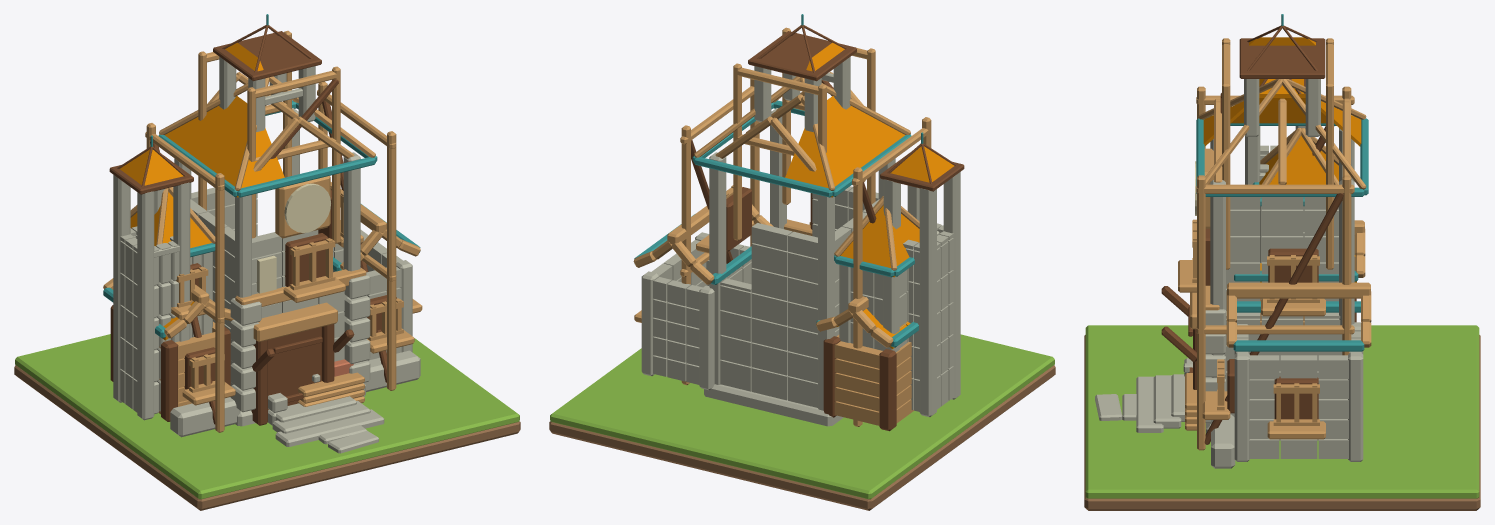
File: town_hall_l08_construction_LOD0.glb
3 views of the same model, side by side, from view 1: azimuth 30°, elevation 25°; view 2: azimuth 150°, elevation 25°; view 3: azimuth 270°, elevation 25° (orthographic). The views are drawn at different scales.
Visible parts, largest first — view 1: town_hall_l08_construction_grass_tile, town_hall_l08_construction_earth_tile, town_hall_l08_construction_corner_reinforcement.020, town_hall_l08_construction_door_recess, town_hall_l08_construction_central_spire_cornice, town_hall_l08_construction_scaffold_post, town_hall_l08_construction_scaffold_post.002, town_hall_l08_construction_hip_roof_shingle.011, town_hall_l08_construction_corner_reinforcement.021, town_hall_l08_construction_door_lintel, town_hall_l08_construction_corner_reinforcement.002, town_hall_l08_construction_clock_face (+39 smaller); view 2: town_hall_l08_construction_grass_tile, town_hall_l08_construction_earth_tile, town_hall_l08_construction_corner_reinforcement.021, town_hall_l08_construction_corner_reinforcement.003, town_hall_l08_construction_corner_reinforcement.001, town_hall_l08_construction_central_spire_cornice, town_hall_l08_construction_hip_roof_shingle.011, town_hall_l08_construction_corner_reinforcement.020, town_hall_l08_construction_foundation, town_hall_l08_construction_corner_reinforcement.009, town_hall_l08_construction_scaffold_post.001, town_hall_l08_construction_corner_reinforcement.005 (+51 smaller); view 3: town_hall_l08_construction_grass_tile, town_hall_l08_construction_earth_tile, town_hall_l08_construction_central_spire_cornice, town_hall_l08_construction_scaffold_post.002, town_hall_l08_construction_ridge_cap.005, town_hall_l08_construction_corner_reinforcement.002, town_hall_l08_construction_corner_reinforcement.010, town_hall_l08_construction_corner_reinforcement.011, town_hall_l08_construction_eave_trim.007, town_hall_l08_construction_scaffold_post.003, town_hall_l08_construction_scaffold_rail.003, town_hall_l08_construction_scaffold_brace.001 (+51 smaller).
Boxes of the visible parts, x1,y1,x2,y2 form: town_hall_l08_construction_grass_tile: [15, 334, 519, 499]; town_hall_l08_construction_earth_tile: [14, 365, 520, 510]; town_hall_l08_construction_corner_reinforcement.020: [137, 191, 154, 420]; town_hall_l08_construction_door_recess: [268, 327, 321, 409]; town_hall_l08_construction_central_spire_cornice: [213, 31, 321, 81]; town_hall_l08_construction_scaffold_post: [215, 173, 224, 432]; town_hall_l08_construction_scaffold_post.002: [387, 131, 396, 390]; town_hall_l08_construction_hip_roof_shingle.011: [164, 118, 243, 196]; town_hall_l08_construction_corner_reinforcement.021: [113, 175, 130, 402]; town_hall_l08_construction_door_lintel: [253, 302, 337, 341]; town_hall_l08_construction_corner_reinforcement.002: [343, 152, 360, 271]; town_hall_l08_construction_clock_face: [284, 183, 330, 232]; town_hall_l08_construction_grass_tile: [550, 334, 1054, 499]; town_hall_l08_construction_earth_tile: [549, 365, 1055, 510]; town_hall_l08_construction_corner_reinforcement.021: [919, 188, 936, 417]; town_hall_l08_construction_corner_reinforcement.003: [709, 152, 726, 384]; town_hall_l08_construction_corner_reinforcement.001: [818, 195, 834, 410]; town_hall_l08_construction_central_spire_cornice: [748, 31, 856, 81]; town_hall_l08_construction_hip_roof_shingle.011: [826, 118, 905, 196]; town_hall_l08_construction_corner_reinforcement.020: [943, 172, 960, 399]; town_hall_l08_construction_foundation: [704, 384, 843, 426]; town_hall_l08_construction_corner_reinforcement.009: [699, 285, 714, 390]; town_hall_l08_construction_scaffold_post.001: [853, 167, 862, 426]; town_hall_l08_construction_corner_reinforcement.005: [879, 349, 896, 431]; town_hall_l08_construction_grass_tile: [1085, 325, 1479, 498]; town_hall_l08_construction_earth_tile: [1084, 335, 1480, 510]; town_hall_l08_construction_central_spire_cornice: [1239, 38, 1325, 78]; town_hall_l08_construction_scaffold_post.002: [1197, 175, 1205, 450]; town_hall_l08_construction_ridge_cap.005: [1227, 282, 1370, 298]; town_hall_l08_construction_corner_reinforcement.002: [1210, 180, 1225, 424]; town_hall_l08_construction_corner_reinforcement.010: [1234, 352, 1249, 461]; town_hall_l08_construction_corner_reinforcement.011: [1348, 352, 1363, 461]; town_hall_l08_construction_eave_trim.007: [1233, 340, 1364, 351]; town_hall_l08_construction_scaffold_post.003: [1342, 175, 1351, 355]; town_hall_l08_construction_scaffold_rail.003: [1196, 184, 1354, 193]; town_hall_l08_construction_scaffold_brace.001: [1204, 193, 1343, 444].
Bounding box in the file's own units: 3.6 × 4.16 × 3.6.
